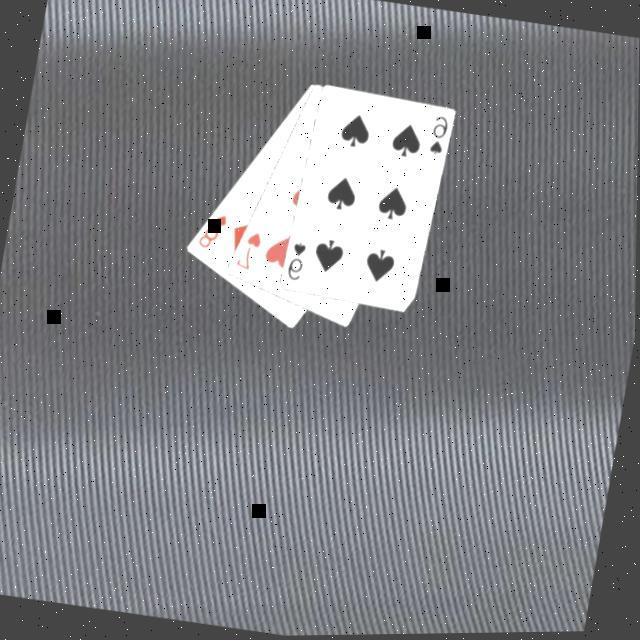6S: (426, 111, 454, 159), (284, 237, 312, 284)
7H: (234, 224, 268, 274)
8D: (196, 208, 233, 254)
